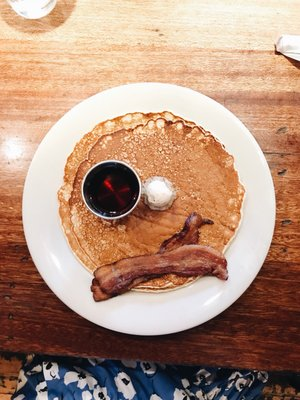pizza: (6, 0, 58, 20)
